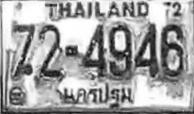2: (36, 24, 62, 81), (11, 22, 35, 78)
4: (80, 23, 106, 77), (134, 22, 158, 77)
6: (160, 23, 184, 79)
9: (108, 22, 132, 78)
NPT: (61, 84, 135, 111)
